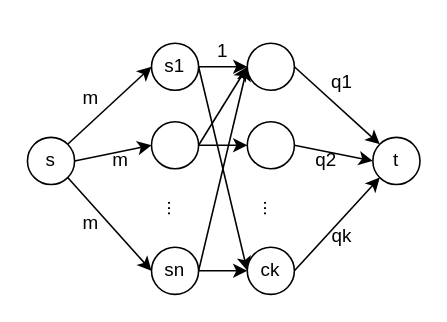
Image size: 447x322. Some labels were removed from this diagram. The box of each missing label's shape, as (x1, y1, x2, y2) in pixels:
c1: (246, 42, 294, 90)
c2: (246, 120, 294, 169)
s2: (150, 120, 199, 169)
